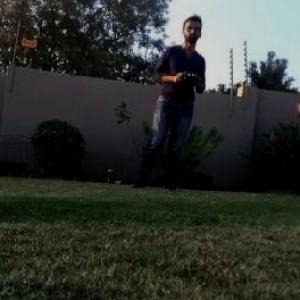follow: (124, 11, 208, 194)
